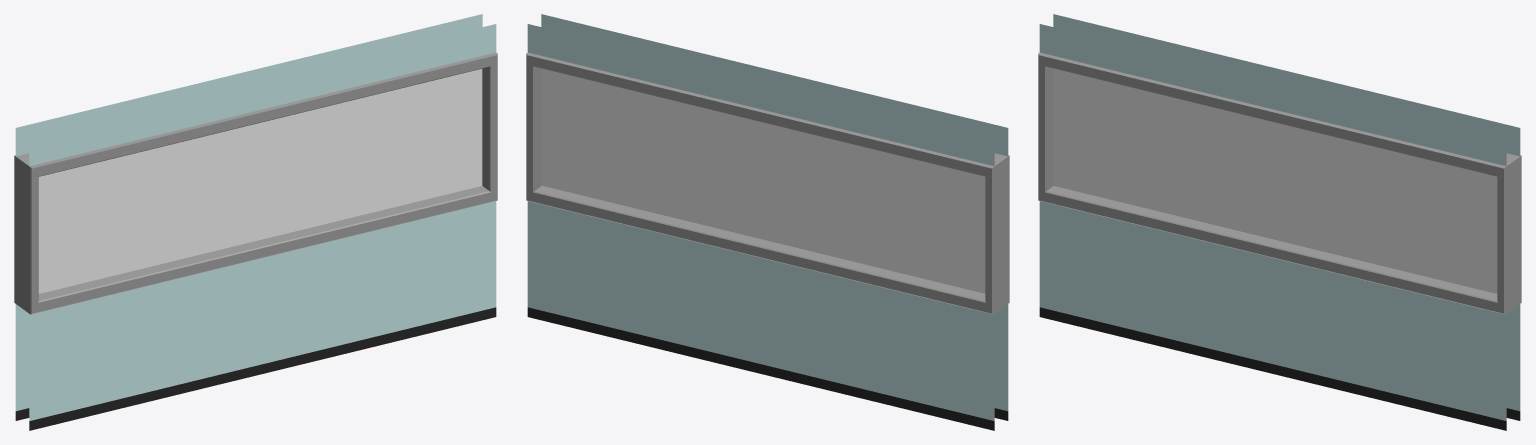
The model's file is interiorWindowWall_line_5.fbx.
3 views of the same model, side by side, from view 1: azimuth 30°, elevation 25°; view 2: azimuth 150°, elevation 25°; view 3: azimuth 330°, elevation 25° (orthographic).
Parts seen in each view (by area): view 1: wall, glassWall; view 2: wall, glassWall; view 3: wall, glassWall.
Boxes of the visible parts, bbox=[...] form: wall: bbox=[14, 14, 497, 430]; glassWall: bbox=[38, 69, 482, 293]; wall: bbox=[526, 14, 1009, 430]; glassWall: bbox=[542, 69, 985, 293]; wall: bbox=[1038, 14, 1521, 430]; glassWall: bbox=[1053, 69, 1497, 293].
Bounding box in the file's own units: 500 × 300 × 31.96.
